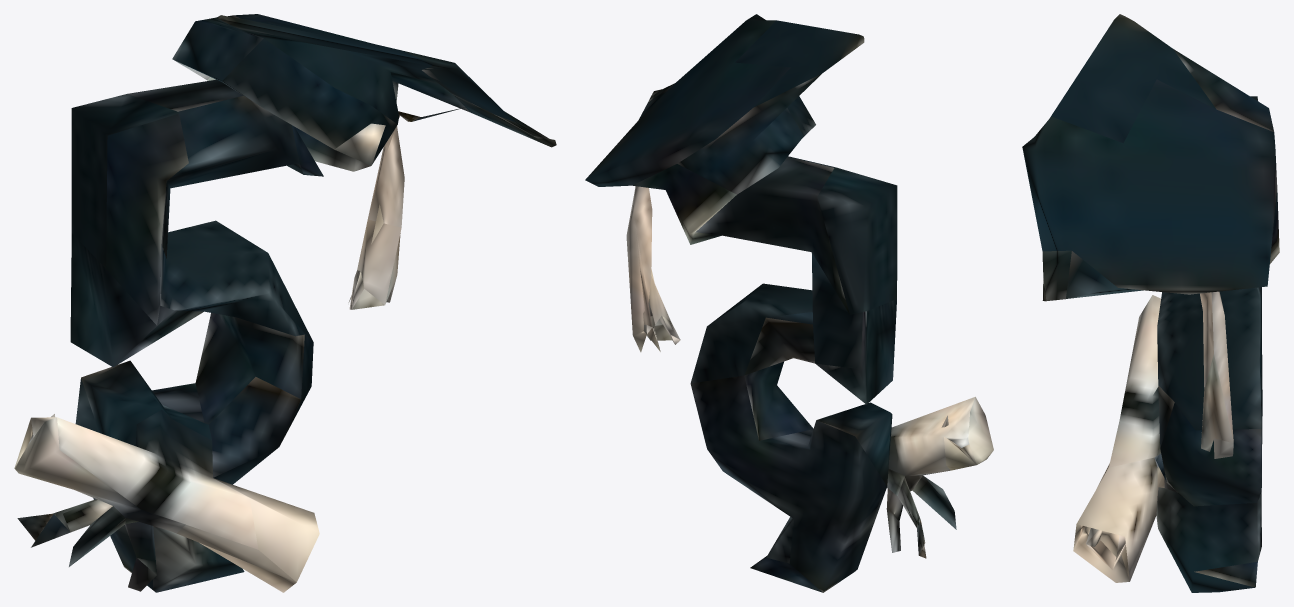
The picture shows the model from 3 angles, left to right: view 1: azimuth 30°, elevation 25°; view 2: azimuth 150°, elevation 25°; view 3: azimuth 270°, elevation 25°; orthographic projection. The views are drawn at different scales.
Parts seen in each view (by area): view 1: Graduation-5; view 2: Graduation-5; view 3: Graduation-5.
Part boxes in pixels (bbox=[...]): Graduation-5: bbox=[14, 14, 556, 592]; Graduation-5: bbox=[585, 14, 993, 592]; Graduation-5: bbox=[1022, 14, 1279, 592].
Size of the model in its own units: 0.2391 by 0.2918 by 0.1231.
Materials: 1 (1 with a texture image).
